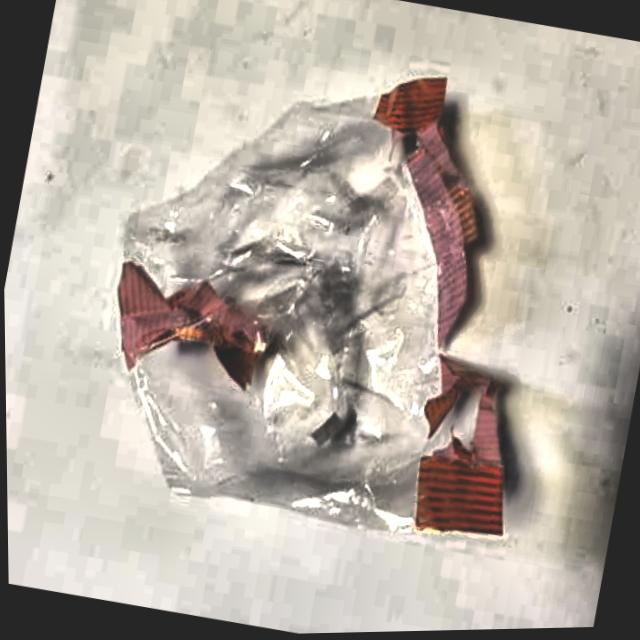Plastic: (57, 16, 618, 580)
